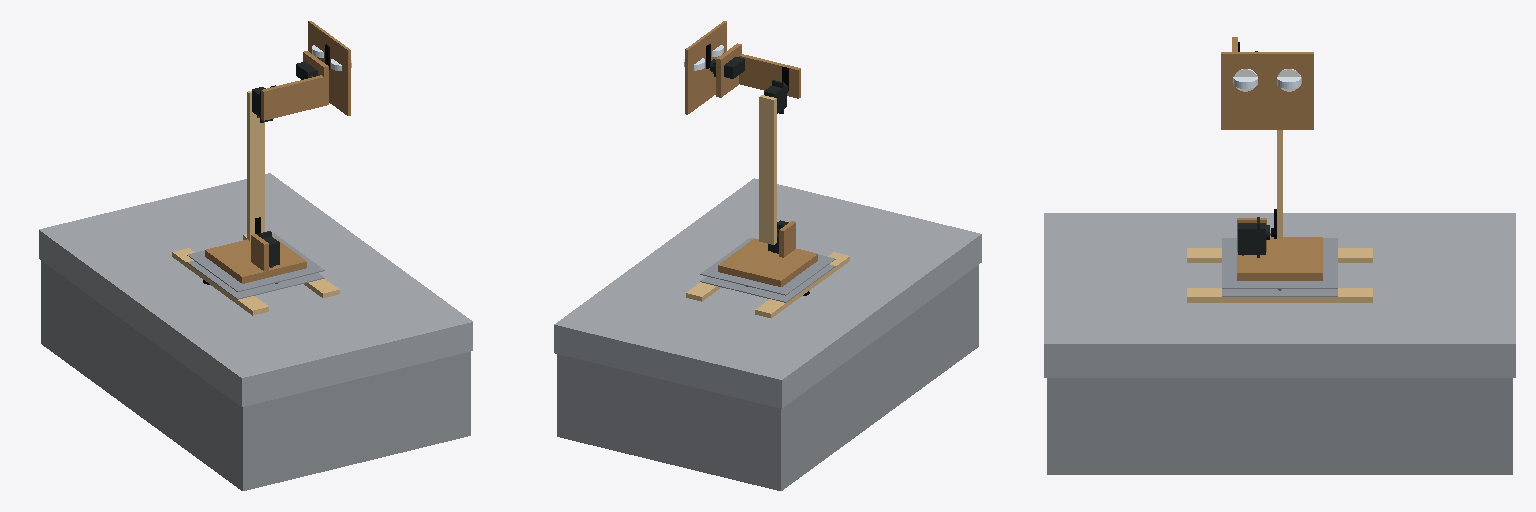
The robot description file, URDF, robot "bitch":
<?xml version="1.0"?>
<!-- Generated by sim/build.py from sim/params.py. -->
<robot name="bitch">
  <link name="box">
    <inertial><origin xyz="0 0 0.059"/><mass value="0.25"/><inertia ixx="1e-3" ixy="0" ixz="0" iyy="1e-3" iyz="0" izz="1e-3"/></inertial>
    <visual name="box"><origin xyz="0 0 0.045" rpy="0 -0 0"/><geometry><box size="0.246 0.376 0.09"/></geometry><material name="c_63_66_68_100"/></visual>
    <collision name="box"><origin xyz="0 0 0.045" rpy="0 -0 0"/><geometry><box size="0.246 0.376 0.09"/></geometry></collision>
    <visual name="lid"><origin xyz="0 0 0.103" rpy="0 -0 0"/><geometry><box size="0.25 0.38 0.03"/></geometry><material name="c_69_72_74_100"/></visual>
    <collision name="lid"><origin xyz="0 0 0.103" rpy="0 -0 0"/><geometry><box size="0.25 0.38 0.03"/></geometry></collision>
    <visual name="cable_hole"><origin xyz="-0.045 0.01 0.1182" rpy="0 -0 0"/><geometry><cylinder radius="0.006" length="0.0004"/></geometry><material name="c_5_5_5_100"/></visual>
    <visual name="rail0"><origin xyz="0.038 0 0.1205" rpy="0 -0 0"/><geometry><box size="0.018 0.15 0.005"/></geometry><material name="c_88_76_56_100"/></visual>
    <visual name="rail1"><origin xyz="-0.038 0 0.1205" rpy="0 -0 0"/><geometry><box size="0.018 0.15 0.005"/></geometry><material name="c_88_76_56_100"/></visual>
    <visual name="susan_bottom_f"><origin xyz="0.037 0 0.1235" rpy="0 -0 0"/><geometry><box size="0.02 0.094 0.001"/></geometry><material name="c_62_63_67_100"/></visual>
    <visual name="susan_bottom_b"><origin xyz="-0.037 0 0.1235" rpy="0 -0 0"/><geometry><box size="0.02 0.094 0.001"/></geometry><material name="c_62_63_67_100"/></visual>
    <visual name="susan_bottom_l"><origin xyz="0 0.037 0.1235" rpy="0 -0 0"/><geometry><box size="0.054 0.02 0.001"/></geometry><material name="c_62_63_67_100"/></visual>
    <visual name="susan_bottom_r"><origin xyz="0 -0.037 0.1235" rpy="0 -0 0"/><geometry><box size="0.054 0.02 0.001"/></geometry><material name="c_62_63_67_100"/></visual>
    <visual name="ball0"><origin xyz="0.038 0 0.12735" rpy="0 -0 0"/><geometry><sphere radius="0.0024"/></geometry><material name="c_62_63_67_100"/></visual>
    <visual name="ball1"><origin xyz="0.0351074 0.014542 0.12735" rpy="0 -0 0"/><geometry><sphere radius="0.0024"/></geometry><material name="c_62_63_67_100"/></visual>
    <visual name="ball2"><origin xyz="0.0268701 0.0268701 0.12735" rpy="0 -0 0"/><geometry><sphere radius="0.0024"/></geometry><material name="c_62_63_67_100"/></visual>
    <visual name="ball3"><origin xyz="0.014542 0.0351074 0.12735" rpy="0 -0 0"/><geometry><sphere radius="0.0024"/></geometry><material name="c_62_63_67_100"/></visual>
    <visual name="ball4"><origin xyz="2.32683e-18 0.038 0.12735" rpy="0 -0 0"/><geometry><sphere radius="0.0024"/></geometry><material name="c_62_63_67_100"/></visual>
    <visual name="ball5"><origin xyz="-0.014542 0.0351074 0.12735" rpy="0 -0 0"/><geometry><sphere radius="0.0024"/></geometry><material name="c_62_63_67_100"/></visual>
    <visual name="ball6"><origin xyz="-0.0268701 0.0268701 0.12735" rpy="0 -0 0"/><geometry><sphere radius="0.0024"/></geometry><material name="c_62_63_67_100"/></visual>
    <visual name="ball7"><origin xyz="-0.0351074 0.014542 0.12735" rpy="0 -0 0"/><geometry><sphere radius="0.0024"/></geometry><material name="c_62_63_67_100"/></visual>
    <visual name="ball8"><origin xyz="-0.038 4.65366e-18 0.12735" rpy="0 -0 0"/><geometry><sphere radius="0.0024"/></geometry><material name="c_62_63_67_100"/></visual>
    <visual name="ball9"><origin xyz="-0.0351074 -0.014542 0.12735" rpy="0 -0 0"/><geometry><sphere radius="0.0024"/></geometry><material name="c_62_63_67_100"/></visual>
    <visual name="ball10"><origin xyz="-0.0268701 -0.0268701 0.12735" rpy="0 -0 0"/><geometry><sphere radius="0.0024"/></geometry><material name="c_62_63_67_100"/></visual>
    <visual name="ball11"><origin xyz="-0.014542 -0.0351074 0.12735" rpy="0 -0 0"/><geometry><sphere radius="0.0024"/></geometry><material name="c_62_63_67_100"/></visual>
    <visual name="ball12"><origin xyz="-6.98049e-18 -0.038 0.12735" rpy="0 -0 0"/><geometry><sphere radius="0.0024"/></geometry><material name="c_62_63_67_100"/></visual>
    <visual name="ball13"><origin xyz="0.014542 -0.0351074 0.12735" rpy="0 -0 0"/><geometry><sphere radius="0.0024"/></geometry><material name="c_62_63_67_100"/></visual>
    <visual name="ball14"><origin xyz="0.0268701 -0.0268701 0.12735" rpy="0 -0 0"/><geometry><sphere radius="0.0024"/></geometry><material name="c_62_63_67_100"/></visual>
    <visual name="ball15"><origin xyz="0.0351074 -0.014542 0.12735" rpy="0 -0 0"/><geometry><sphere radius="0.0024"/></geometry><material name="c_62_63_67_100"/></visual>
    <visual name="s1_case"><origin xyz="-0.0055 0 0.11145" rpy="0 -0 3.14159"/><geometry><box size="0.0228 0.0122 0.0225"/></geometry><material name="c_18_20_20_81"/></visual>
    <visual name="s1_pcb"><origin xyz="-0.0055 0 0.1032" rpy="0 -0 3.14159"/><geometry><box size="0.0178 0.0097 0.0012"/></geometry><material name="c_11_41_20_100"/></visual>
    <visual name="s1_tabs"><origin xyz="-0.0055 0 0.11695" rpy="0 -0 3.14159"/><geometry><box size="0.0325 0.0122 0.0025"/></geometry><material name="c_18_20_20_81"/></visual>
    <visual name="s1_label"><origin xyz="-0.0055 -0.00625 0.1112" rpy="0 -0 3.14159"/><geometry><box size="0.014 0.0003 0.009"/></geometry><material name="c_62_10_11_100"/></visual>
    <visual name="s1_dome"><origin xyz="0 0 0.12445" rpy="0 -0 3.14159"/><geometry><cylinder radius="0.006" length="0.0035"/></geometry><material name="c_18_20_20_81"/></visual>
    <visual name="s1_shaft"><origin xyz="0 0 0.12795" rpy="0 -0 3.14159"/><geometry><cylinder radius="0.0024" length="0.0035"/></geometry><material name="c_62_63_67_100"/></visual>
    <visual name="s1_cable"><origin xyz="-0.0199 0 0.1042" rpy="0 -0 3.14159"/><geometry><box size="0.006 0.0036 0.0014"/></geometry><material name="c_55_25_10_100"/></visual>
  </link>
  <link name="turntable">
    <inertial><origin xyz="-0.000191392 -0.00578004 0.0057786"/><mass value="0.057746"/>
      <inertia ixx="5.2368e-05" ixy="-2.9677e-07" ixz="2.7386e-07" iyy="3.7894e-05" iyz="5.1933e-06" izz="7.8093e-05"/></inertial>
    <visual name="s1_hub"><origin xyz="0 0 -0.0025" rpy="0 -0 0"/><geometry><cylinder radius="0.0035" length="0.005"/></geometry><material name="c_7_7_9_100"/></visual>
    <visual name="s1_horn"><origin xyz="0.008 0 -0.001" rpy="0 -0 0"/><geometry><box size="0.024 0.006 0.002"/></geometry><material name="c_7_7_9_100"/></visual>
    <visual name="susan_top_f"><origin xyz="0.037 0 -0.0005" rpy="0 -0 0"/><geometry><box size="0.02 0.094 0.001"/></geometry><material name="c_62_63_67_100"/></visual>
    <visual name="susan_top_b"><origin xyz="-0.037 0 -0.0005" rpy="0 -0 0"/><geometry><box size="0.02 0.094 0.001"/></geometry><material name="c_62_63_67_100"/></visual>
    <visual name="susan_top_l"><origin xyz="0 0.037 -0.0005" rpy="0 -0 0"/><geometry><box size="0.054 0.02 0.001"/></geometry><material name="c_62_63_67_100"/></visual>
    <visual name="susan_top_r"><origin xyz="0 -0.037 -0.0005" rpy="0 -0 0"/><geometry><box size="0.054 0.02 0.001"/></geometry><material name="c_62_63_67_100"/></visual>
    <visual name="turn_plate"><origin xyz="0 0 0.0035" rpy="0 -0 0"/><geometry><box size="0.07 0.07 0.007"/></geometry><material name="c_70_55_37_100"/></visual>
    <collision name="turn_plate"><origin xyz="0 0 0.0035" rpy="0 -0 0"/><geometry><box size="0.07 0.07 0.007"/></geometry></collision>
    <visual name="s2_bracket"><origin xyz="-0.0086 -0.02275 0.021" rpy="0 -0 0"/><geometry><box size="0.005 0.024 0.028"/></geometry><material name="c_70_55_37_100"/></visual>
    <visual name="s2_case"><origin xyz="0 -0.02275 0.0215" rpy="-1.5708 1.5708 0"/><geometry><box size="0.0228 0.0122 0.0225"/></geometry><material name="c_18_20_20_81"/></visual>
    <visual name="s2_pcb"><origin xyz="0 -0.031 0.0215" rpy="-1.5708 1.5708 0"/><geometry><box size="0.0178 0.0097 0.0012"/></geometry><material name="c_11_41_20_100"/></visual>
    <visual name="s2_tabs"><origin xyz="0 -0.01725 0.0215" rpy="-1.5708 1.5708 0"/><geometry><box size="0.0325 0.0122 0.0025"/></geometry><material name="c_18_20_20_81"/></visual>
    <visual name="s2_label"><origin xyz="-0.00625 -0.023 0.0215" rpy="-1.5708 1.5708 0"/><geometry><box size="0.014 0.0003 0.009"/></geometry><material name="c_62_10_11_100"/></visual>
    <visual name="s2_dome"><origin xyz="0 -0.00975 0.027" rpy="-1.5708 1.5708 0"/><geometry><cylinder radius="0.006" length="0.0035"/></geometry><material name="c_18_20_20_81"/></visual>
    <visual name="s2_shaft"><origin xyz="0 -0.00625 0.027" rpy="-1.5708 1.5708 0"/><geometry><cylinder radius="0.0024" length="0.0035"/></geometry><material name="c_62_63_67_100"/></visual>
    <visual name="s2_cable"><origin xyz="0 -0.03 0.0071" rpy="-1.5708 1.5708 0"/><geometry><box size="0.006 0.0036 0.0014"/></geometry><material name="c_55_25_10_100"/></visual>
  </link>
  <link name="arm">
    <inertial><origin xyz="2.7314e-06 -0.00880867 0.111259"/><mass value="0.022882"/>
      <inertia ixx="5.5264e-05" ixy="2.9321e-10" ixz="-1.9526e-09" iyy="5.3703e-05" iyz="5.8784e-06" izz="2.2404e-06"/></inertial>
    <visual name="arm_stick"><origin xyz="0 0 0.074" rpy="0 -0 0"/><geometry><box size="0.016 0.005 0.152"/></geometry><material name="c_88_76_56_100"/></visual>
    <collision name="arm_stick"><origin xyz="0 0 0.074" rpy="0 -0 0"/><geometry><box size="0.016 0.005 0.152"/></geometry></collision>
    <visual name="s2_hub"><origin xyz="0 -0.005 0" rpy="-1.5708 -1.5708 0"/><geometry><cylinder radius="0.0035" length="0.005"/></geometry><material name="c_7_7_9_100"/></visual>
    <visual name="s2_horn"><origin xyz="0 -0.0035 0.008" rpy="-1.5708 -1.5708 0"/><geometry><box size="0.024 0.006 0.002"/></geometry><material name="c_7_7_9_100"/></visual>
    <visual name="s3_case"><origin xyz="0 -0.01375 0.1425" rpy="1.5708 1.5708 0"/><geometry><box size="0.0228 0.0122 0.0225"/></geometry><material name="c_18_20_20_81"/></visual>
    <visual name="s3_pcb"><origin xyz="0 -0.0055 0.1425" rpy="1.5708 1.5708 0"/><geometry><box size="0.0178 0.0097 0.0012"/></geometry><material name="c_11_41_20_100"/></visual>
    <visual name="s3_tabs"><origin xyz="0 -0.01925 0.1425" rpy="1.5708 1.5708 0"/><geometry><box size="0.0325 0.0122 0.0025"/></geometry><material name="c_18_20_20_81"/></visual>
    <visual name="s3_label"><origin xyz="0.00625 -0.0135 0.1425" rpy="1.5708 1.5708 0"/><geometry><box size="0.014 0.0003 0.009"/></geometry><material name="c_62_10_11_100"/></visual>
    <visual name="s3_dome"><origin xyz="0 -0.02675 0.148" rpy="1.5708 1.5708 0"/><geometry><cylinder radius="0.006" length="0.0035"/></geometry><material name="c_18_20_20_81"/></visual>
    <visual name="s3_shaft"><origin xyz="0 -0.03025 0.148" rpy="1.5708 1.5708 0"/><geometry><cylinder radius="0.0024" length="0.0035"/></geometry><material name="c_62_63_67_100"/></visual>
    <visual name="s3_cable"><origin xyz="0 -0.0065 0.1281" rpy="1.5708 1.5708 0"/><geometry><box size="0.006 0.0036 0.0014"/></geometry><material name="c_55_25_10_100"/></visual>
  </link>
  <link name="neck">
    <inertial><origin xyz="0.0456543 -0.0194143 0.0132746"/><mass value="0.019185"/>
      <inertia ixx="3.1088e-06" ixy="-2.2349e-06" ixz="-1.1420e-06" iyy="7.3919e-06" iyz="-6.0176e-07" izz="8.3828e-06"/></inertial>
    <visual name="s3_hub"><origin xyz="0 -0.0315 0" rpy="1.5708 -1.5708 0"/><geometry><cylinder radius="0.0035" length="0.005"/></geometry><material name="c_7_7_9_100"/></visual>
    <visual name="s3_horn"><origin xyz="0 -0.033 0.008" rpy="1.5708 -1.5708 0"/><geometry><box size="0.024 0.006 0.002"/></geometry><material name="c_7_7_9_100"/></visual>
    <visual name="neck_side"><origin xyz="0.0185 -0.0365 0.005" rpy="0 -0 0"/><geometry><box size="0.065 0.005 0.03"/></geometry><material name="c_70_55_37_100"/></visual>
    <collision name="neck_side"><origin xyz="0.0185 -0.0365 0.005" rpy="0 -0 0"/><geometry><box size="0.065 0.005 0.03"/></geometry></collision>
    <visual name="neck_front"><origin xyz="0.0535 -0.019 0.01" rpy="0 -0 0"/><geometry><box size="0.005 0.04 0.04"/></geometry><material name="c_70_55_37_100"/></visual>
    <collision name="neck_front"><origin xyz="0.0535 -0.019 0.01" rpy="0 -0 0"/><geometry><box size="0.005 0.04 0.04"/></geometry></collision>
    <visual name="s4_case"><origin xyz="0.05175 -0.0156 0.016" rpy="-1.5708 -0 -1.5708"/><geometry><box size="0.0228 0.0122 0.0225"/></geometry><material name="c_18_20_20_81"/></visual>
    <visual name="s4_pcb"><origin xyz="0.0435 -0.0156 0.016" rpy="-1.5708 -0 -1.5708"/><geometry><box size="0.0178 0.0097 0.0012"/></geometry><material name="c_11_41_20_100"/></visual>
    <visual name="s4_tabs"><origin xyz="0.05725 -0.0156 0.016" rpy="-1.5708 -0 -1.5708"/><geometry><box size="0.0325 0.0122 0.0025"/></geometry><material name="c_18_20_20_81"/></visual>
    <visual name="s4_label"><origin xyz="0.0515 -0.0156 0.00975" rpy="-1.5708 -0 -1.5708"/><geometry><box size="0.014 0.0003 0.009"/></geometry><material name="c_62_10_11_100"/></visual>
    <visual name="s4_dome"><origin xyz="0.06475 -0.0101 0.016" rpy="-1.5708 -0 -1.5708"/><geometry><cylinder radius="0.006" length="0.0035"/></geometry><material name="c_18_20_20_81"/></visual>
    <visual name="s4_shaft"><origin xyz="0.06825 -0.0101 0.016" rpy="-1.5708 -0 -1.5708"/><geometry><cylinder radius="0.0024" length="0.0035"/></geometry><material name="c_62_63_67_100"/></visual>
    <visual name="s4_cable"><origin xyz="0.0445 -0.03 0.016" rpy="-1.5708 -0 -1.5708"/><geometry><box size="0.006 0.0036 0.0014"/></geometry><material name="c_55_25_10_100"/></visual>
  </link>
  <link name="head">
    <inertial><origin xyz="0.00363053 0 -0.00013594"/><mass value="0.00665"/>
      <inertia ixx="4.2188e-06" ixy="0.0000e+00" ixz="-1.3712e-08" iyy="1.8207e-06" iyz="0.0000e+00" izz="2.4484e-06"/></inertial>
    <visual name="s4_hub"><origin xyz="-0.0005 0 0" rpy="-3.14159 -1.5708 0"/><geometry><cylinder radius="0.0035" length="0.005"/></geometry><material name="c_7_7_9_100"/></visual>
    <visual name="s4_horn"><origin xyz="0.001 0 0.008" rpy="-3.14159 -1.5708 0"/><geometry><box size="0.024 0.006 0.002"/></geometry><material name="c_7_7_9_100"/></visual>
    <visual name="head_panel"><origin xyz="0.0035 0 -0.004" rpy="0 -0 0"/><geometry><box size="0.003 0.075 0.068"/></geometry><material name="c_70_55_37_100"/></visual>
    <collision name="head_panel"><origin xyz="0.0035 0 -0.004" rpy="0 -0 0"/><geometry><box size="0.003 0.075 0.068"/></geometry></collision>
    <visual name="eye_l"><origin xyz="0.0056 0.0175 0.007" rpy="1.5708 -0 1.5708"/><geometry><cylinder radius="0.01" length="0.0012"/></geometry><material name="c_97_97_95_100"/></visual>
    <collision name="eye_l"><origin xyz="0.0056 0.0175 0.007" rpy="1.5708 -0 1.5708"/><geometry><cylinder radius="0.01" length="0.0012"/></geometry></collision>
    <visual name="pupil_l"><origin xyz="0.0066 0.0175 0.0048" rpy="1.5708 -0 1.5708"/><geometry><cylinder radius="0.0052" length="0.0008"/></geometry><material name="c_2_2_2_100"/></visual>
    <visual name="dome_l"><origin xyz="0.0062 0.0175 0.007" rpy="0 -0 0"/><geometry><cylinder radius="0.01" length="0.006"/></geometry><material name="c_89_94_100_14"/></visual>
    <visual name="eye_r"><origin xyz="0.0056 -0.0175 0.007" rpy="1.5708 -0 1.5708"/><geometry><cylinder radius="0.01" length="0.0012"/></geometry><material name="c_97_97_95_100"/></visual>
    <collision name="eye_r"><origin xyz="0.0056 -0.0175 0.007" rpy="1.5708 -0 1.5708"/><geometry><cylinder radius="0.01" length="0.0012"/></geometry></collision>
    <visual name="pupil_r"><origin xyz="0.0066 -0.0175 0.0048" rpy="1.5708 -0 1.5708"/><geometry><cylinder radius="0.0052" length="0.0008"/></geometry><material name="c_2_2_2_100"/></visual>
    <visual name="dome_r"><origin xyz="0.0062 -0.0175 0.007" rpy="0 -0 0"/><geometry><cylinder radius="0.01" length="0.006"/></geometry><material name="c_89_94_100_14"/></visual>
  </link>
  <joint name="base" type="revolute">
    <parent link="box"/><child link="turntable"/>
    <origin xyz="0 0 0.1317" rpy="0 -0 0"/>
    <axis xyz="0 0 1"/>
    <limit lower="-1.5708" upper="1.5708" effort="0.2" velocity="10.47"/>
    <dynamics damping="0.0191" friction="0.002"/>
  </joint>
  <joint name="arm" type="revolute">
    <parent link="turntable"/><child link="arm"/>
    <origin xyz="0 0 0.027" rpy="0 -0 0"/>
    <axis xyz="0 1 0"/>
    <limit lower="-1.1781" upper="1.1781" effort="0.2" velocity="10.47"/>
    <dynamics damping="0.0191" friction="0.002"/>
  </joint>
  <joint name="neck" type="revolute">
    <parent link="arm"/><child link="neck"/>
    <origin xyz="0 0 0.148" rpy="0 -0 0"/>
    <axis xyz="0 -1 0"/>
    <limit lower="-0.7854" upper="0.7854" effort="0.2" velocity="10.47"/>
    <dynamics damping="0.0191" friction="0.002"/>
  </joint>
  <joint name="head" type="revolute">
    <parent link="neck"/><child link="head"/>
    <origin xyz="0.07 -0.0101 0.016" rpy="0 -0 0"/>
    <axis xyz="1 0 0"/>
    <limit lower="-0.7854" upper="0.7854" effort="0.2" velocity="10.47"/>
    <dynamics damping="0.0191" friction="0.002"/>
  </joint>
  <material name="c_63_66_68_100"><color rgba="0.64 0.66 0.68 1"/></material>
  <material name="c_69_72_74_100"><color rgba="0.7 0.72 0.74 1"/></material>
  <material name="c_5_5_5_100"><color rgba="0.05 0.05 0.06 1"/></material>
  <material name="c_88_76_56_100"><color rgba="0.89 0.77 0.57 1"/></material>
  <material name="c_62_63_67_100"><color rgba="0.62 0.64 0.67 1"/></material>
  <material name="c_18_20_20_81"><color rgba="0.18 0.2 0.2 0.82"/></material>
  <material name="c_11_41_20_100"><color rgba="0.12 0.42 0.2 1"/></material>
  <material name="c_62_10_11_100"><color rgba="0.62 0.1 0.12 1"/></material>
  <material name="c_55_25_10_100"><color rgba="0.55 0.25 0.1 1"/></material>
  <material name="c_7_7_9_100"><color rgba="0.08 0.08 0.09 1"/></material>
  <material name="c_70_55_37_100"><color rgba="0.71 0.55 0.37 1"/></material>
  <material name="c_97_97_95_100"><color rgba="0.97 0.97 0.96 1"/></material>
  <material name="c_2_2_2_100"><color rgba="0.03 0.03 0.03 1"/></material>
  <material name="c_89_94_100_14"><color rgba="0.9 0.95 1 0.14"/></material>
</robot>

--- Facts derived from the render (not from the file) ---
3 views of the same robot in one strip: view 1: azimuth 30°, elevation 25°; view 2: azimuth 150°, elevation 25°; view 3: azimuth 270°, elevation 25° (orthographic).
Model bitch with 5 links and 4 joints (4 revolute), rooted at box, posed all joints at 0.
Links seen in each view (by area): view 1: box, turntable, neck, arm, head; view 2: box, turntable, arm, neck, head; view 3: box, head, turntable, arm.
Boxes of the visible links, <box> form: box: <box>39,173,472,490</box>; turntable: <box>187,231,324,291</box>; neck: <box>261,51,328,120</box>; arm: <box>247,87,272,240</box>; head: <box>308,21,351,115</box>; box: <box>554,178,981,490</box>; turntable: <box>700,220,835,295</box>; arm: <box>759,80,787,244</box>; neck: <box>710,43,800,98</box>; head: <box>684,21,726,114</box>; box: <box>1044,213,1515,474</box>; head: <box>1221,52,1313,129</box>; turntable: <box>1222,217,1337,288</box>; arm: <box>1255,51,1282,238</box>.
Bounding box of the posed robot: 0.25 × 0.38 × 0.3527 m (x, y, z).
Geometry: primitives only (box / cylinder / sphere), no mesh files.
